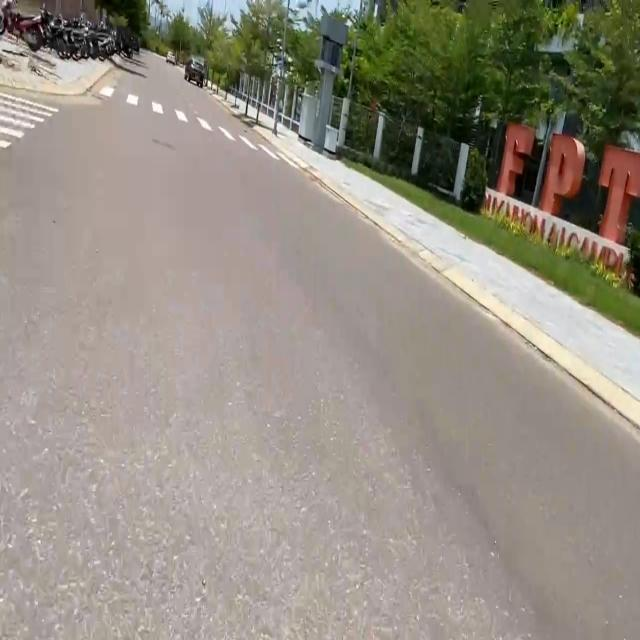walk-crossing: (94, 84, 300, 170), (0, 86, 55, 157)
